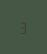three: (19, 20, 26, 34)
